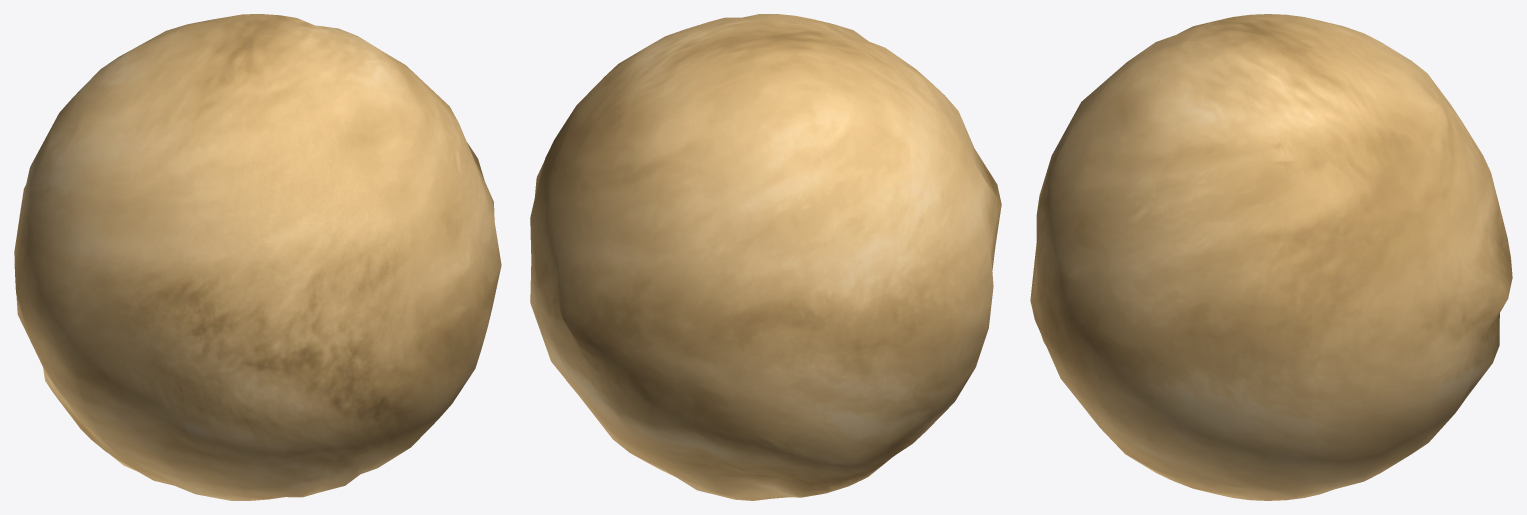
File: jupiter.gltf
3 views of the same model, side by side, from view 1: azimuth 30°, elevation 25°; view 2: azimuth 150°, elevation 25°; view 3: azimuth 270°, elevation 25° (orthographic).
Parts seen in each view (by area): view 1: jupiter; view 2: jupiter; view 3: jupiter.
Part boxes in pixels (x1,y1,x2,y2): jupiter: (14,14,501,500); jupiter: (530,14,1001,500); jupiter: (1030,14,1512,500).
Size of the model in its own units: 2.07 by 2 by 1.98.
Materials: 1 (1 with a texture image).
